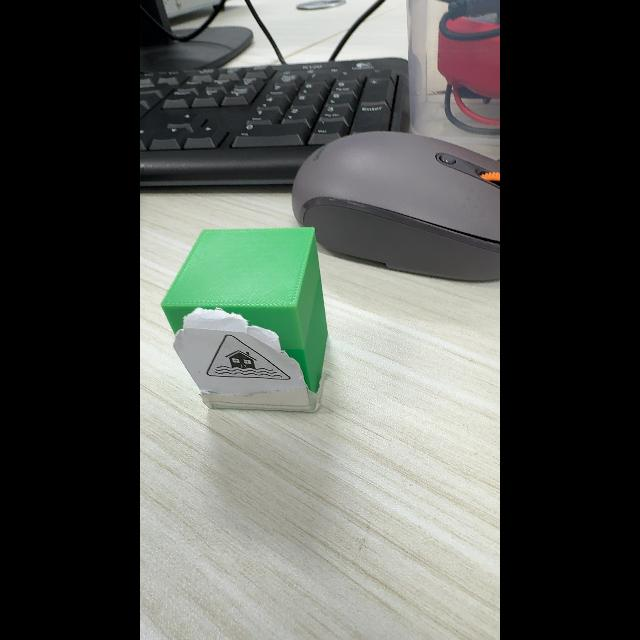Tsunami: (207, 335, 290, 380)
